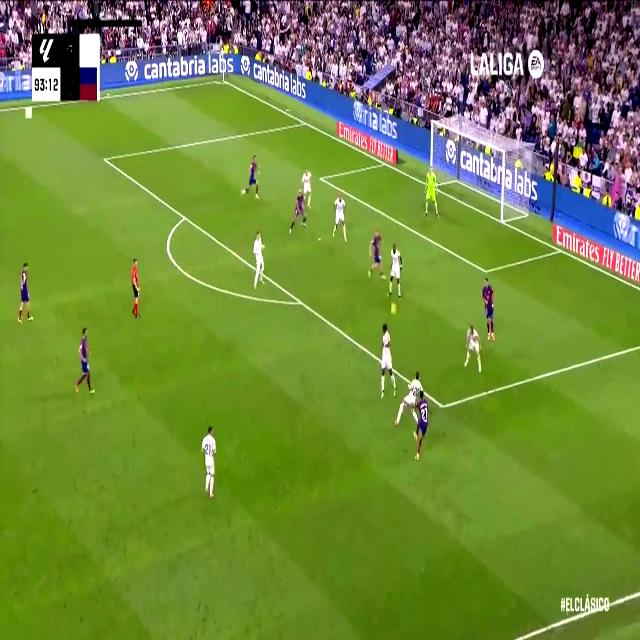bigarea_bottom_inner: (436, 393, 448, 419)
bigarea_top_inner: (100, 148, 109, 168)
bigarea_top_outter: (299, 114, 309, 130)
bottom_arc_area_intersection: (294, 290, 306, 312)
corner: (218, 75, 228, 86)
smallarea_bottom_inner: (481, 261, 490, 280)
smallarea_bottom_outter: (554, 242, 564, 258)
smallarea_top_inner: (317, 169, 325, 187)
top_arc_area_intersection: (180, 207, 190, 225)
